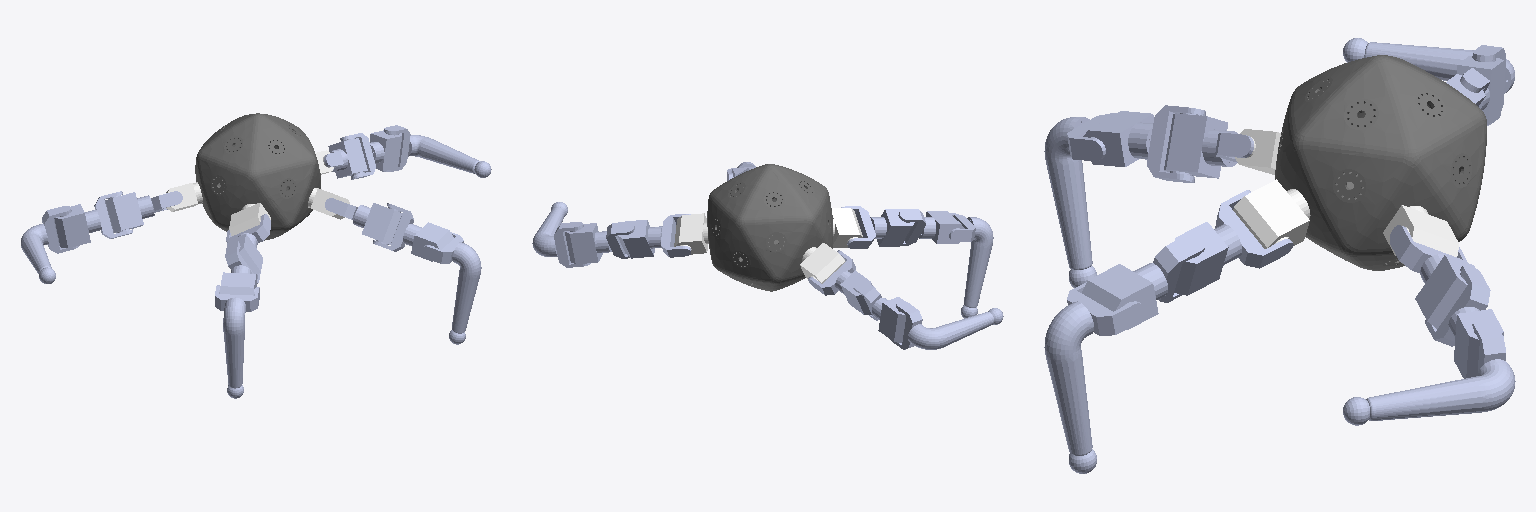
The robot description file, URDF, robot "mod_test":
<?xml version="1.0" encoding="utf-8"?>
<robot
  name="mod_test">
  <link
    name="base_link">
    <inertial>
      <origin
        xyz="-1.5226495220944E-06 1.5812928362389E-07 -5.05247252856584E-07"
        rpy="0 0 0" />
      <mass
        value="0.422806992949252" />
      <inertia
        ixx="0.00237499139253511"
        ixy="1.5717831530364E-08"
        ixz="1.49286265366169E-08"
        iyy="0.00237502154661776"
        iyz="-2.02154172619351E-08"
        izz="0.00237502595466009" />
    </inertial>
    <visual>
      <origin
        xyz="0 0 0"
        rpy="0 0 0" />
      <geometry>
        <mesh
          filename="package://meshes/base_link.STL" />
      </geometry>
      <material
        name="">
        <color
          rgba="0.498039215686275 0.498039215686275 0.498039215686275 1" />
      </material>
    </visual>
    <collision>
      <origin
        xyz="0 0 0"
        rpy="0 0 0" />
      <geometry>
        <mesh
          filename="package://meshes/base_link.STL" />
      </geometry>
    </collision>
  </link>
  <link
   name="100">
   <inertial>
      <origin
        xyz="0 0 0.028508"
        rpy="0 0 0" />
      <mass
        value="0.076173" />
      <inertia
        ixx="3.054E-05"
        ixy="-0.000000"
        ixz="-0.000000"
        iyy="2.1077E-05"
        iyz="-0.000000"
        izz="2.1165E-05" />
    </inertial>
    <visual>
      <origin
        xyz="0 0 0"
        rpy="0 0 0" />
      <geometry>
        <mesh
          filename="package://meshes/1.STL" />
      </geometry>
      <material
        name="">
        <color
          rgba="1 1 1 1" />
      </material>
    </visual>
    <collision>
      <origin
        xyz="0 0 0"
        rpy="0 0 0" />
      <geometry>
        <mesh
          filename="package://meshes/1.STL" />
      </geometry>
    </collision>
  </link>
  <joint
    name="body_100"
    type="fixed">
    <origin
        xyz="0.051620 -0.071049 -0.016769"
        rpy="-1.935587 1.017234 -2.827371" />
    <parent
      link="base_link" />
    <child
      link="100" />
    <axis
      xyz="0 0 0" />
  </joint>
  <link
    name="101">
    <inertial>
      <origin
        xyz="0.060018 -1.4108E-06 1.4108E-06"
        rpy="0 0 0" />
    <mass
        value="0.10689" />
      <inertia
        ixx="3.2684e-05"
        ixy="-2.5662e-09"
        ixz="2.5662e-09"
        iyy="8.4132e-05"
        iyz="-2.1275e-13"
        izz="8.4583e-05" />
    </inertial>
    <visual>
      <origin
        xyz="0 0 0"
        rpy="0 0 0" />
      <geometry>
        <mesh
          filename="package://meshes/module9.STL" />
      </geometry>
      <material
        name="">
        <color
          rgba="0.79216 0.81961 0.93333 1" />
      </material>
    </visual>
    <collision>
      <origin
        xyz="0 0 0"
        rpy="0 0 0" />
      <geometry>
        <mesh
          filename="package://meshes/module9.STL" />
      </geometry>
    </collision>
  </link>
  <joint
    name="100_101"
    type="revolute">
    <origin
      xyz="0 0 0.04"
      rpy="-1.558 -1.5708 -0.012835" />
    <parent
      link="100" />
    <child
      link="101" />
    <axis
      xyz="0 0 1" />
    <limit
      lower="-6.28"
      upper="6.28"
      effort="10"
      velocity="100" />
  </joint>
  <link
    name="102">
    <inertial>
      <origin
        xyz="0.060018 -1.4108E-06 1.4108E-06"
        rpy="0 0 0" />
    <mass
        value="0.10689" />
      <inertia
        ixx="3.2684e-05"
        ixy="-2.5662e-09"
        ixz="2.5662e-09"
        iyy="8.6498e-05"
        iyz="-4.0975e-06"
        izz="8.2217e-05" />
    </inertial>
    <visual>
      <origin
        xyz="0 0 0"
        rpy="0 0 0" />
      <geometry>
        <mesh
          filename="package://meshes/module10.STL" />
      </geometry>
      <material
        name="">
        <color
          rgba="0.79216 0.81961 0.93333 1" />
      </material>
    </visual>
    <collision>
      <origin
        xyz="0 0 0"
        rpy="0 0 0" />
      <geometry>
        <mesh
          filename="package://meshes/module10.STL" />
      </geometry>
    </collision>
  </link>
  <joint
    name="101_102"
    type="revolute">
    <origin
      xyz="0.0816 0 0"
      rpy="4.712389 0 0" />
    <parent
      link="101" />
    <child
      link="102" />
    <axis
      xyz="0 0 1" />
    <limit
      lower="-6.28"
      upper="6.28"
      effort="10"
      velocity="100" />
  </joint>
  <link
    name="103">
    <inertial>
      <origin
        xyz="0.051733 -0.042281 -1.3878E-17"
        rpy="0 0 0" />
    <mass
        value="0.12059" />
      <inertia
        ixx="0.00025425"
        ixy="4.8319E-05"
        ixz="0"
        iyy="5.0194E-05"
        iyz="-3.3141E-21"
        izz="0.00027482" />
    </inertial>
    <visual>
      <origin
        xyz="0 0 0"
        rpy="0 0 0" />
      <geometry>
        <mesh
          filename="package://meshes/leg.STL" />
      </geometry>
      <material
        name="">
        <color
          rgba="0.79216 0.81961 0.93333 1" />
      </material>
    </visual>
    <collision>
      <origin
        xyz="0 0 0"
        rpy="0 0 0" />
      <geometry>
        <mesh
          filename="package://meshes/leg.STL" />
      </geometry>
    </collision>
  </link>
  <joint
    name="102_103"
    type="revolute">
    <origin
      xyz="0.0816 0 0"
      rpy="5.235988 0 0" />
    <parent
      link="102" />
    <child
      link="103" />
    <axis
      xyz="0 0 1" />
    <limit
      lower="-6.28"
      upper="6.28"
      effort="10"
      velocity="100" />
  </joint>
  <link
   name="110">
   <inertial>
      <origin
        xyz="0 0 0.028508"
        rpy="0 0 0" />
      <mass
        value="0.076173" />
      <inertia
        ixx="3.054E-05"
        ixy="-0.000000"
        ixz="-0.000000"
        iyy="2.1077E-05"
        iyz="-0.000000"
        izz="2.1165E-05" />
    </inertial>
    <visual>
      <origin
        xyz="0 0 0"
        rpy="0 0 0" />
      <geometry>
        <mesh
          filename="package://meshes/1.STL" />
      </geometry>
      <material
        name="">
        <color
          rgba="1 1 1 1" />
      </material>
    </visual>
    <collision>
      <origin
        xyz="0 0 0"
        rpy="0 0 0" />
      <geometry>
        <mesh
          filename="package://meshes/1.STL" />
      </geometry>
    </collision>
  </link>
  <joint
    name="body_110"
    type="fixed">
    <origin
        xyz="0.083523 0.027138 -0.016769"
        rpy="-1.935587 1.017234 -1.570734" />
    <parent
      link="base_link" />
    <child
      link="110" />
    <axis
      xyz="0 0 0" />
  </joint>
  <link
    name="111">
    <inertial>
      <origin
        xyz="0.060018 -1.4108E-06 1.4108E-06"
        rpy="0 0 0" />
    <mass
        value="0.10689" />
      <inertia
        ixx="3.2684e-05"
        ixy="-2.5662e-09"
        ixz="2.5662e-09"
        iyy="8.4132e-05"
        iyz="-2.1275e-13"
        izz="8.4583e-05" />
    </inertial>
    <visual>
      <origin
        xyz="0 0 0"
        rpy="0 0 0" />
      <geometry>
        <mesh
          filename="package://meshes/module9.STL" />
      </geometry>
      <material
        name="">
        <color
          rgba="0.79216 0.81961 0.93333 1" />
      </material>
    </visual>
    <collision>
      <origin
        xyz="0 0 0"
        rpy="0 0 0" />
      <geometry>
        <mesh
          filename="package://meshes/module9.STL" />
      </geometry>
    </collision>
  </link>
  <joint
    name="110_111"
    type="revolute">
    <origin
      xyz="0 0 0.04"
      rpy="-1.558 -1.5708 -0.012835" />
    <parent
      link="110" />
    <child
      link="111" />
    <axis
      xyz="0 0 1" />
    <limit
      lower="-6.28"
      upper="6.28"
      effort="10"
      velocity="100" />
  </joint>
  <link
    name="112">
    <inertial>
      <origin
        xyz="0.060018 -1.4108E-06 1.4108E-06"
        rpy="0 0 0" />
    <mass
        value="0.10689" />
      <inertia
        ixx="3.2684e-05"
        ixy="-2.5662e-09"
        ixz="2.5662e-09"
        iyy="9.1229e-05"
        iyz="4.0975e-06"
        izz="7.7485e-05" />
    </inertial>
    <visual>
      <origin
        xyz="0 0 0"
        rpy="0 0 0" />
      <geometry>
        <mesh
          filename="package://meshes/module7.STL" />
      </geometry>
      <material
        name="">
        <color
          rgba="0.79216 0.81961 0.93333 1" />
      </material>
    </visual>
    <collision>
      <origin
        xyz="0 0 0"
        rpy="0 0 0" />
      <geometry>
        <mesh
          filename="package://meshes/module7.STL" />
      </geometry>
    </collision>
  </link>
  <joint
    name="111_112"
    type="revolute">
    <origin
      xyz="0.0816 0 0"
      rpy="4.712389 0 0" />
    <parent
      link="111" />
    <child
      link="112" />
    <axis
      xyz="0 0 1" />
    <limit
      lower="-6.28"
      upper="6.28"
      effort="10"
      velocity="100" />
  </joint>
  <link
    name="113">
    <inertial>
      <origin
        xyz="0.051733 -0.042281 -1.3878E-17"
        rpy="0 0 0" />
    <mass
        value="0.12059" />
      <inertia
        ixx="0.00025425"
        ixy="4.8319E-05"
        ixz="0"
        iyy="5.0194E-05"
        iyz="-3.3141E-21"
        izz="0.00027482" />
    </inertial>
    <visual>
      <origin
        xyz="0 0 0"
        rpy="0 0 0" />
      <geometry>
        <mesh
          filename="package://meshes/leg.STL" />
      </geometry>
      <material
        name="">
        <color
          rgba="0.79216 0.81961 0.93333 1" />
      </material>
    </visual>
    <collision>
      <origin
        xyz="0 0 0"
        rpy="0 0 0" />
      <geometry>
        <mesh
          filename="package://meshes/leg.STL" />
      </geometry>
    </collision>
  </link>
  <joint
    name="112_113"
    type="revolute">
    <origin
      xyz="0.0816 0 0"
      rpy="3.665191 0 0" />
    <parent
      link="112" />
    <child
      link="113" />
    <axis
      xyz="0 0 1" />
    <limit
      lower="-6.28"
      upper="6.28"
      effort="10"
      velocity="100" />
  </joint>
  <link
   name="130">
   <inertial>
      <origin
        xyz="0 0 0.028508"
        rpy="0 0 0" />
      <mass
        value="0.076173" />
      <inertia
        ixx="3.054E-05"
        ixy="-0.000000"
        ixz="0.000000"
        iyy="2.1077E-05"
        iyz="-0.000000"
        izz="2.1165E-05" />
    </inertial>
    <visual>
      <origin
        xyz="0 0 0"
        rpy="0 0 0" />
      <geometry>
        <mesh
          filename="package://meshes/1.STL" />
      </geometry>
      <material
        name="">
        <color
          rgba="1 1 1 1" />
      </material>
    </visual>
    <collision>
      <origin
        xyz="0 0 0"
        rpy="0 0 0" />
      <geometry>
        <mesh
          filename="package://meshes/1.STL" />
      </geometry>
    </collision>
  </link>
  <joint
    name="body_130"
    type="fixed">
    <origin
        xyz="-0.083523 0.027138 -0.016769"
        rpy="1.935587 1.017234 -1.570859" />
    <parent
      link="base_link" />
    <child
      link="130" />
    <axis
      xyz="0 0 0" />
  </joint>
  <link
    name="131">
    <inertial>
      <origin
        xyz="0.060018 -1.4108E-06 1.4108E-06"
        rpy="0 0 0" />
    <mass
        value="0.10689" />
      <inertia
        ixx="3.2684e-05"
        ixy="-2.5662e-09"
        ixz="2.5662e-09"
        iyy="8.4132e-05"
        iyz="-2.1275e-13"
        izz="8.4583e-05" />
    </inertial>
    <visual>
      <origin
        xyz="0 0 0"
        rpy="0 0 0" />
      <geometry>
        <mesh
          filename="package://meshes/module3.STL" />
      </geometry>
      <material
        name="">
        <color
          rgba="0.79216 0.81961 0.93333 1" />
      </material>
    </visual>
    <collision>
      <origin
        xyz="0 0 0"
        rpy="0 0 0" />
      <geometry>
        <mesh
          filename="package://meshes/module3.STL" />
      </geometry>
    </collision>
  </link>
  <joint
    name="130_131"
    type="revolute">
    <origin
      xyz="0 0 0.04"
      rpy="-1.558 -1.5708 -0.012835" />
    <parent
      link="130" />
    <child
      link="131" />
    <axis
      xyz="0 0 1" />
    <limit
      lower="-6.28"
      upper="6.28"
      effort="10"
      velocity="100" />
  </joint>
  <link
    name="132">
    <inertial>
      <origin
        xyz="0.060018 -1.4108E-06 1.4108E-06"
        rpy="0 0 0" />
    <mass
        value="0.10689" />
      <inertia
        ixx="3.2684e-05"
        ixy="-2.5662e-09"
        ixz="2.5662e-09"
        iyy="9.1229e-05"
        iyz="-4.0975e-06"
        izz="7.7485e-05" />
    </inertial>
    <visual>
      <origin
        xyz="0 0 0"
        rpy="0 0 0" />
      <geometry>
        <mesh
          filename="package://meshes/module5.STL" />
      </geometry>
      <material
        name="">
        <color
          rgba="0.79216 0.81961 0.93333 1" />
      </material>
    </visual>
    <collision>
      <origin
        xyz="0 0 0"
        rpy="0 0 0" />
      <geometry>
        <mesh
          filename="package://meshes/module5.STL" />
      </geometry>
    </collision>
  </link>
  <joint
    name="131_132"
    type="revolute">
    <origin
      xyz="0.0816 0 0"
      rpy="1.570796 0 0" />
    <parent
      link="131" />
    <child
      link="132" />
    <axis
      xyz="0 0 1" />
    <limit
      lower="-6.28"
      upper="6.28"
      effort="10"
      velocity="100" />
  </joint>
  <link
    name="133">
    <inertial>
      <origin
        xyz="0.051733 -0.042281 -1.3878E-17"
        rpy="0 0 0" />
    <mass
        value="0.12059" />
      <inertia
        ixx="0.00025425"
        ixy="4.8319E-05"
        ixz="0"
        iyy="5.0194E-05"
        iyz="-3.3141E-21"
        izz="0.00027482" />
    </inertial>
    <visual>
      <origin
        xyz="0 0 0"
        rpy="0 0 0" />
      <geometry>
        <mesh
          filename="package://meshes/leg.STL" />
      </geometry>
      <material
        name="">
        <color
          rgba="0.79216 0.81961 0.93333 1" />
      </material>
    </visual>
    <collision>
      <origin
        xyz="0 0 0"
        rpy="0 0 0" />
      <geometry>
        <mesh
          filename="package://meshes/leg.STL" />
      </geometry>
    </collision>
  </link>
  <joint
    name="132_133"
    type="revolute">
    <origin
      xyz="0.0816 0 0"
      rpy="2.617994 0 0" />
    <parent
      link="132" />
    <child
      link="133" />
    <axis
      xyz="0 0 1" />
    <limit
      lower="-6.28"
      upper="6.28"
      effort="10"
      velocity="100" />
  </joint>
  <link
   name="140">
   <inertial>
      <origin
        xyz="0 0 0.028508"
        rpy="0 0 0" />
      <mass
        value="0.076173" />
      <inertia
        ixx="3.054E-05"
        ixy="-0.000000"
        ixz="0.000000"
        iyy="2.1077E-05"
        iyz="-0.000000"
        izz="2.1165E-05" />
    </inertial>
    <visual>
      <origin
        xyz="0 0 0"
        rpy="0 0 0" />
      <geometry>
        <mesh
          filename="package://meshes/1.STL" />
      </geometry>
      <material
        name="">
        <color
          rgba="1 1 1 1" />
      </material>
    </visual>
    <collision>
      <origin
        xyz="0 0 0"
        rpy="0 0 0" />
      <geometry>
        <mesh
          filename="package://meshes/1.STL" />
      </geometry>
    </collision>
  </link>
  <joint
    name="body_140"
    type="fixed">
    <origin
        xyz="-0.051620 -0.071049 -0.016769"
        rpy="1.935587 1.017234 -0.314221" />
    <parent
      link="base_link" />
    <child
      link="140" />
    <axis
      xyz="0 0 0" />
  </joint>
  <link
    name="141">
    <inertial>
      <origin
        xyz="0.060018 -1.4108E-06 1.4108E-06"
        rpy="0 0 0" />
    <mass
        value="0.10689" />
      <inertia
        ixx="3.2684e-05"
        ixy="-2.5662e-09"
        ixz="2.5662e-09"
        iyy="8.4132e-05"
        iyz="-2.1275e-13"
        izz="8.4583e-05" />
    </inertial>
    <visual>
      <origin
        xyz="0 0 0"
        rpy="0 0 0" />
      <geometry>
        <mesh
          filename="package://meshes/module3.STL" />
      </geometry>
      <material
        name="">
        <color
          rgba="0.79216 0.81961 0.93333 1" />
      </material>
    </visual>
    <collision>
      <origin
        xyz="0 0 0"
        rpy="0 0 0" />
      <geometry>
        <mesh
          filename="package://meshes/module3.STL" />
      </geometry>
    </collision>
  </link>
  <joint
    name="140_141"
    type="revolute">
    <origin
      xyz="0 0 0.04"
      rpy="-1.558 -1.5708 -0.012835" />
    <parent
      link="140" />
    <child
      link="141" />
    <axis
      xyz="0 0 1" />
    <limit
      lower="-6.28"
      upper="6.28"
      effort="10"
      velocity="100" />
  </joint>
  <link
    name="142">
    <inertial>
      <origin
        xyz="0.060018 -1.4108E-06 1.4108E-06"
        rpy="0 0 0" />
    <mass
        value="0.10689" />
      <inertia
        ixx="3.2684e-05"
        ixy="-2.5662e-09"
        ixz="2.5662e-09"
        iyy="8.6498e-05"
        iyz="4.0975e-06"
        izz="8.2217e-05" />
    </inertial>
    <visual>
      <origin
        xyz="0 0 0"
        rpy="0 0 0" />
      <geometry>
        <mesh
          filename="package://meshes/module2.STL" />
      </geometry>
      <material
        name="">
        <color
          rgba="0.79216 0.81961 0.93333 1" />
      </material>
    </visual>
    <collision>
      <origin
        xyz="0 0 0"
        rpy="0 0 0" />
      <geometry>
        <mesh
          filename="package://meshes/module2.STL" />
      </geometry>
    </collision>
  </link>
  <joint
    name="141_142"
    type="revolute">
    <origin
      xyz="0.0816 0 0"
      rpy="1.570796 0 0" />
    <parent
      link="141" />
    <child
      link="142" />
    <axis
      xyz="0 0 1" />
    <limit
      lower="-6.28"
      upper="6.28"
      effort="10"
      velocity="100" />
  </joint>
  <link
    name="143">
    <inertial>
      <origin
        xyz="0.051733 -0.042281 -1.3878E-17"
        rpy="0 0 0" />
    <mass
        value="0.12059" />
      <inertia
        ixx="0.00025425"
        ixy="4.8319E-05"
        ixz="0"
        iyy="5.0194E-05"
        iyz="-3.3141E-21"
        izz="0.00027482" />
    </inertial>
    <visual>
      <origin
        xyz="0 0 0"
        rpy="0 0 0" />
      <geometry>
        <mesh
          filename="package://meshes/leg.STL" />
      </geometry>
      <material
        name="">
        <color
          rgba="0.79216 0.81961 0.93333 1" />
      </material>
    </visual>
    <collision>
      <origin
        xyz="0 0 0"
        rpy="0 0 0" />
      <geometry>
        <mesh
          filename="package://meshes/leg.STL" />
      </geometry>
    </collision>
  </link>
  <joint
    name="142_143"
    type="revolute">
    <origin
      xyz="0.0816 0 0"
      rpy="1.047198 0 0" />
    <parent
      link="142" />
    <child
      link="143" />
    <axis
      xyz="0 0 1" />
    <limit
      lower="-6.28"
      upper="6.28"
      effort="10"
      velocity="100" />
  </joint>
  <link
    name = "ball_1">
    <inertial>
    <origin
        xyz="0 0 0"
        rpy="0 0 0" />
    <mass
        value="0" />
      <inertia
        ixx="0"
        ixy="0"
        ixz="0"
        iyy="0"
        iyz="0"
        izz="0" />
    </inertial>    <visual>
      <origin
        xyz="0 0 0"
        rpy="0 0 0" />
     <geometry>
        <sphere radius = "0.01"/>
      </geometry>
      <material
        name="green">
        <color
          rgba="0.22 1 0.4 1" />
      </material>
    </visual>
  </link>
  <joint
  name="103_ball1"
  type="fixed">
    <origin
      xyz="0.0612 -0.13431 0"
      rpy="0 0 0" />
    <parent
      link="103" />
    <child
      link="ball_1" />
    <axis
      xyz="0 0 0" />
  </joint>
  <link
    name = "ball_2">
    <inertial>
    <origin
        xyz="0 0 0"
        rpy="0 0 0" />
    <mass
        value="0" />
      <inertia
        ixx="0"
        ixy="0"
        ixz="0"
        iyy="0"
        iyz="0"
        izz="0" />
    </inertial>    <visual>
      <origin
        xyz="0 0 0"
        rpy="0 0 0" />
      <geometry>
        <sphere radius = "0.01"/>
      </geometry>
      <material
        name="blue">
        <color
          rgba="0.16 0.52 0.8 1" />
      </material>
    </visual>
  </link>
  <joint
  name="113_ball2"
  type="fixed">
    <origin
      xyz="0.0612 -0.13431 0"
      rpy="0 0 0" />
    <parent
      link="113" />
    <child
      link="ball_2" />
    <axis
      xyz="0 0 0" />
  </joint>
  <link
    name = "ball_3">
    <inertial>
    <origin
        xyz="0 0 0"
        rpy="0 0 0" />
    <mass
        value="0" />
      <inertia
        ixx="0"
        ixy="0"
        ixz="0"
        iyy="0"
        iyz="0"
        izz="0" />
    </inertial>    <visual>
      <origin
        xyz="0 0 0"
        rpy="0 0 0" />
     <geometry>
        <sphere radius = "0.01"/>
      </geometry>
      <material
        name="blue">
        <color
          rgba="0.16 0.52 0.8 1" />
      </material>
    </visual>
  </link>
  <joint
  name="133_ball3"
  type="fixed">
    <origin
      xyz="0.0612 -0.13431 0"
      rpy="0 0 0" />
    <parent
      link="133" />
    <child
      link="ball_3" />
    <axis
      xyz="0 0 0" />
  </joint>
  <link
    name = "ball_4">
    <inertial>
    <origin
        xyz="0 0 0"
        rpy="0 0 0" />
    <mass
        value="0" />
      <inertia
        ixx="0"
        ixy="0"
        ixz="0"
        iyy="0"
        iyz="0"
        izz="0" />
    </inertial>    <visual>
      <origin
        xyz="0 0 0"
        rpy="0 0 0" />
      <geometry>
        <sphere radius = "0.01"/>
      </geometry>
      <material
        name="yellow">
        <color
          rgba="1 1 0 1" />
      </material>
    </visual>
  </link>
  <joint
  name="143_ball4"
  type="fixed">
    <origin
      xyz="0.0612 -0.13431 0"
      rpy="0 0 0" />
    <parent
      link="143" />
    <child
      link="ball_4" />
    <axis
      xyz="0 0 0" />
  </joint>
</robot>

--- Facts derived from the render (not from the file) ---
3 views of the same robot in one strip: view 1: azimuth 30°, elevation 25°; view 2: azimuth 150°, elevation 25°; view 3: azimuth 270°, elevation 25° (orthographic).
Model mod_test with 21 links and 20 joints (12 revolute, 8 fixed), rooted at base_link, posed every joint at zero.
Visible links, largest first — view 1: base_link, 103, 143, 113, 132, 131, 133, 101, 102, 112, 142, 111 (+4 smaller); view 2: base_link, 133, 143, 112, 111, 141, 113, 132, 142, 131, 130, 110 (+1 smaller); view 3: base_link, 103, 113, 143, 102, 101, 142, 141, 111, 100, 112, 133 (+3 smaller).
Boxes of the visible links, x1,y1,x2,y2 form: base_link: (195, 113, 320, 240); 103: (421, 232, 481, 344); 143: (215, 285, 259, 398); 113: (382, 125, 491, 177); 132: (54, 191, 132, 247); 131: (105, 191, 182, 232); 133: (21, 206, 78, 283); 101: (325, 198, 402, 244); 102: (373, 203, 453, 261); 112: (340, 130, 401, 179); 142: (219, 240, 260, 295); 111: (324, 138, 367, 178); base_link: (707, 164, 832, 291); 133: (891, 301, 1003, 349); 143: (949, 213, 993, 318); 112: (565, 222, 634, 263); 111: (617, 214, 690, 258); 141: (841, 206, 915, 248); 113: (532, 202, 590, 267); 132: (852, 278, 905, 342); 142: (898, 209, 964, 245); 131: (808, 250, 872, 314); 130: (800, 243, 845, 283); 110: (674, 213, 708, 254); base_link: (1275, 55, 1486, 270); 103: (1044, 282, 1145, 473); 113: (1343, 315, 1515, 425); 143: (1044, 113, 1116, 287); 102: (1082, 233, 1205, 329); 101: (1174, 190, 1293, 295); 142: (1083, 105, 1205, 182); 141: (1164, 113, 1253, 178); 111: (1390, 225, 1474, 328); 100: (1233, 179, 1310, 248); 112: (1425, 264, 1503, 378); 133: (1343, 38, 1514, 125).
Bounding box of the posed robot: 0.7693 × 0.4125 × 0.3132 m (x, y, z).
Meshes: 9 distinct files referenced, 17 mesh visuals loaded (9 binary STL).